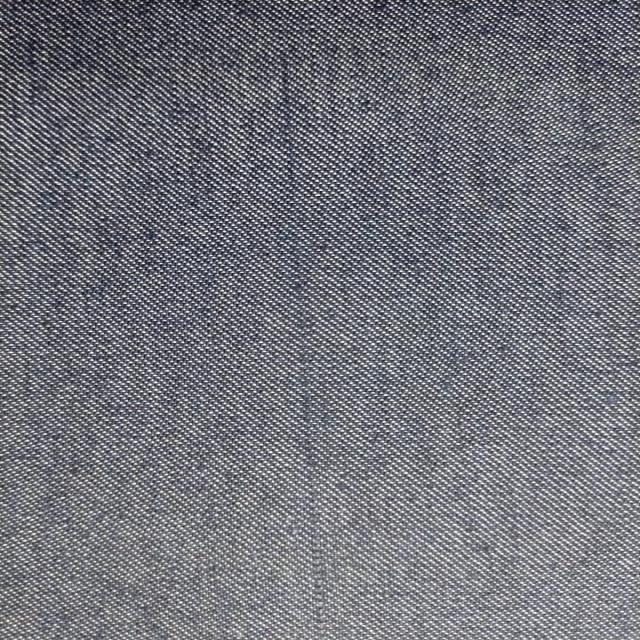Line: (272, 48, 333, 637)
